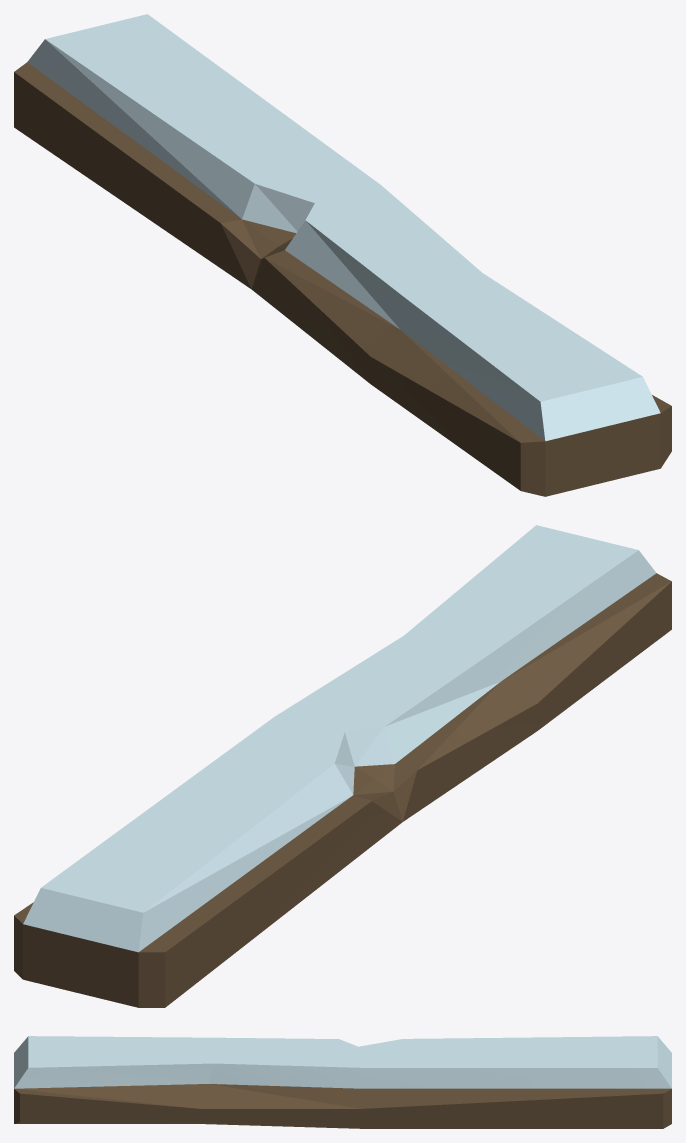
Rendered from Tablon03.glb.
3 views of the same model, one above another, from view 1: azimuth 30°, elevation 25°; view 2: azimuth 150°, elevation 25°; view 3: azimuth 270°, elevation 25° (orthographic). The views are drawn at different scales.
Parts seen in each view (by area): view 1: SM_Env_Path_Wood_Plank_03_Snow; view 2: SM_Env_Path_Wood_Plank_03_Snow; view 3: SM_Env_Path_Wood_Plank_03_Snow.
Boxes of the visible parts, bbox=[...] form: SM_Env_Path_Wood_Plank_03_Snow: bbox=[14, 14, 671, 496]; SM_Env_Path_Wood_Plank_03_Snow: bbox=[14, 525, 671, 1007]; SM_Env_Path_Wood_Plank_03_Snow: bbox=[14, 1036, 671, 1128].
Bounding box in the file's own units: 0.4864 × 0.2491 × 2.74.
1 material, 1 textured.
